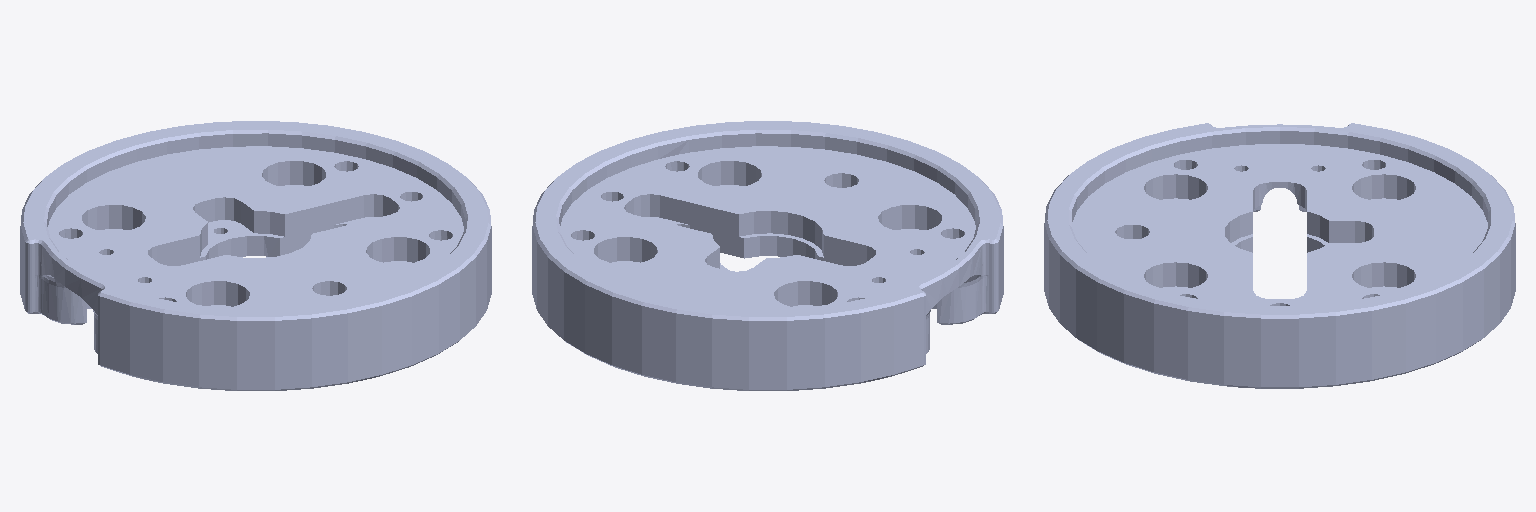
URDF robot description (right_camera_urdf):
<?xml version="1.0" encoding="utf-8"?>
<!-- This URDF was automatically created by SolidWorks to URDF Exporter! Originally created by Stephen Brawner (brawner@gmail.com) 
     Commit Version: 1.6.0-4-g7f85cfe  Build Version: 1.6.7995.38578
     For more information, please see http://wiki.ros.org/sw_urdf_exporter -->
<robot
  name="right_camera_urdf">
  <link
    name="right_camera_baselink">
    <inertial>
      <origin
        xyz="0.00169176146350225 6.27177057885842E-05 0.00613551141760804"
        rpy="0 0 0" />
      <mass
        value="0.0391136973543017" />
      <inertia
        ixx="2.10082366937357E-05"
        ixy="4.15569575588325E-09"
        ixz="6.31312381479377E-08"
        iyy="1.79110804276993E-05"
        iyz="4.29415564719963E-09"
        izz="3.81003191600635E-05" />
    </inertial>
    <visual>
      <origin
        xyz="0 0 0"
        rpy="0 0 0" />
      <geometry>
        <mesh
          filename="package://ur_description/meshes/camera/right_camera_baselink.STL" />
      </geometry>
      <material
        name="">
        <color
          rgba="0.792156862745098 0.819607843137255 0.933333333333333 1" />
      </material>
    </visual>
    <collision>
      <origin
        xyz="0 0 0"
        rpy="0 0 0" />
      <geometry>
        <mesh
          filename="package://ur_description/meshes/camera/right_camera_baselink.STL" />
      </geometry>
    </collision>
  </link>
  <link
    name="right_camera_link">
    <inertial>
      <origin
        xyz="5.61106716645554E-13 -0.00144115236579754 0.000791750983279549"
        rpy="0 0 0" />
      <mass
        value="0.00178362481871375" />
      <inertia
        ixx="1.30543218810336E-07"
        ixy="-5.08996360184974E-19"
        ixz="-8.35297379808027E-20"
        iyy="6.39586835557311E-08"
        iyz="-3.24181725937733E-19"
        izz="1.89926836088096E-07" />
    </inertial>
    <visual>
      <origin
        xyz="0 0 0"
        rpy="0 0 0" />
      <geometry>
        <mesh
          filename="package://ur_description/meshes/camera/right_camera_link.STL" />
      </geometry>
      <material
        name="">
        <color
          rgba="0.792156862745098 0.819607843137255 0.933333333333333 1" />
      </material>
    </visual>
    <collision>
      <origin
        xyz="0 0 0"
        rpy="0 0 0" />
      <geometry>
        <mesh
          filename="package://ur_description/meshes/camera/right_camera_link.STL" />
      </geometry>
    </collision>
  </link>
  <joint
    name="right_camera_joint"
    type="fixed">
    <origin
      xyz="0 -0.049998 -0.0025"
      rpy="0 0 0" />
    <parent
      link="right_camera_baselink" />
    <child
      link="right_camera_link" />
    <axis
      xyz="0 0 0" />
  </joint>
</robot>

--- Render facts (derived) ---
3 views of the same robot in one strip: view 1: azimuth 30°, elevation 25°; view 2: azimuth 150°, elevation 25°; view 3: azimuth 270°, elevation 25° (orthographic).
Model right_camera_urdf with 2 links and 1 joints (1 fixed), rooted at right_camera_baselink, posed all joints at 0.
Links seen in each view (by area): view 1: right_camera_baselink; view 2: right_camera_baselink; view 3: right_camera_baselink.
Link boxes in pixels (bbox=[...]): right_camera_baselink: bbox=[20, 121, 491, 390]; right_camera_baselink: bbox=[532, 121, 1003, 390]; right_camera_baselink: bbox=[1044, 123, 1515, 388].
Size in the robot's own frame: 0.0779 by 0.0799 by 0.0139 metres.
Meshes: 2 distinct files referenced, 1 mesh visuals loaded (1 binary STL); not drawn: 1 (reference not matched to a file when rendering).
